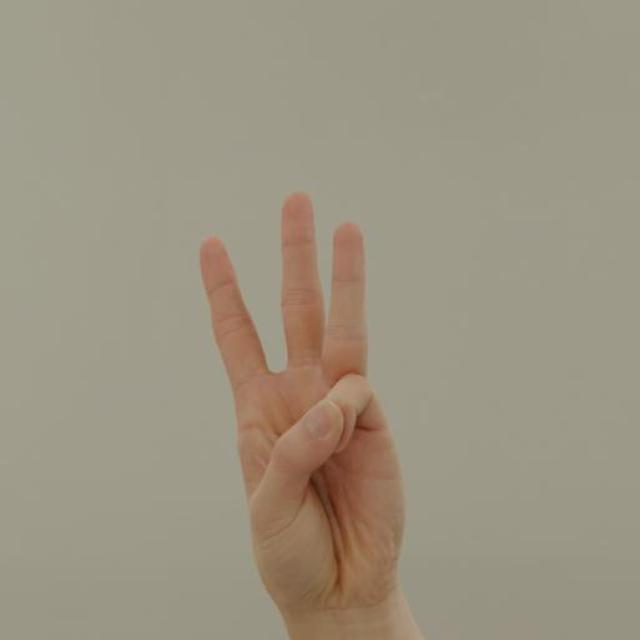W: (196, 188, 412, 611)
